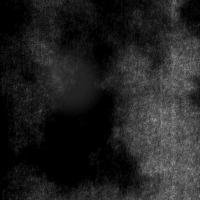patches: (36, 38, 128, 189), (35, 46, 107, 118), (176, 1, 200, 38)
